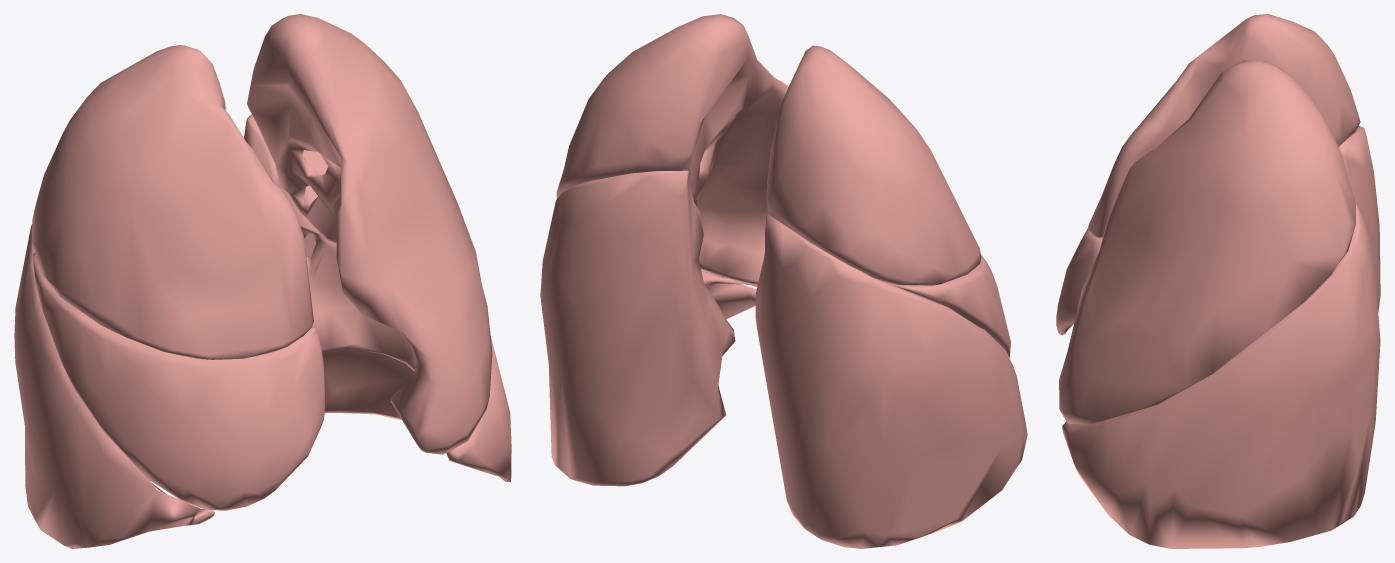
The model's file is arbre-bronchique-lod1.glb.
3 renders of one model, left to right at view 1: azimuth 30°, elevation 25°; view 2: azimuth 150°, elevation 25°; view 3: azimuth 270°, elevation 25°, orthographic. The views are drawn at different scales.
Visible parts, largest first — view 1: Superior lobe of right lung, Superior lobe of left lung, Middle lobe of right lung, Inferior lobe of right lung, Inferior lobe of left lung; view 2: Inferior lobe of right lung, Inferior lobe of left lung, Superior lobe of left lung, Superior lobe of right lung, Middle lobe of right lung; view 3: Superior lobe of left lung, Inferior lobe of left lung, Superior lobe of right lung, Inferior lobe of right lung, Middle lobe of right lung.
Boxes of the visible parts, x1=… form: Superior lobe of right lung: x1=32, y1=45, x2=313, y2=359; Superior lobe of left lung: x1=247, y1=14, x2=492, y2=454; Middle lobe of right lung: x1=33, y1=252, x2=325, y2=510; Inferior lobe of right lung: x1=14, y1=224, x2=214, y2=548; Inferior lobe of left lung: x1=244, y1=114, x2=511, y2=481; Inferior lobe of right lung: x1=755, y1=214, x2=1027, y2=548; Inferior lobe of left lung: x1=540, y1=170, x2=756, y2=486; Superior lobe of left lung: x1=556, y1=14, x2=788, y2=287; Superior lobe of right lung: x1=766, y1=45, x2=981, y2=285; Middle lobe of right lung: x1=884, y1=255, x2=1010, y2=357; Superior lobe of left lung: x1=1059, y1=60, x2=1355, y2=424; Inferior lobe of left lung: x1=1062, y1=202, x2=1380, y2=548; Superior lobe of right lung: x1=1088, y1=14, x2=1360, y2=237; Inferior lobe of right lung: x1=1339, y1=126, x2=1380, y2=311; Middle lobe of right lung: x1=1056, y1=228, x2=1102, y2=335.
Bounding box in the file's own units: 0.2607 × 0.2635 × 0.1852.
